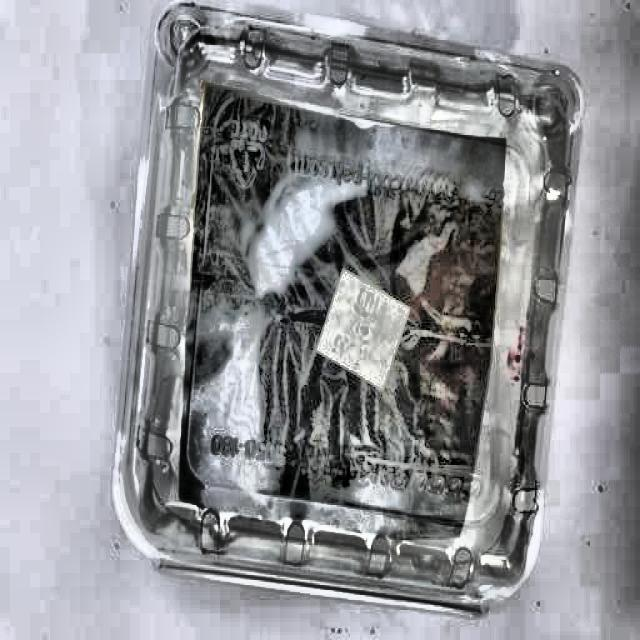plastic: (112, 7, 580, 624)
